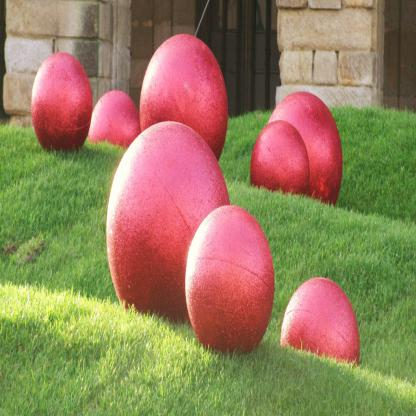Ball: (105, 122, 230, 324), (184, 206, 272, 362), (140, 32, 228, 164), (272, 94, 344, 206), (282, 278, 359, 364), (31, 50, 92, 156), (252, 123, 311, 196), (90, 89, 139, 149)
